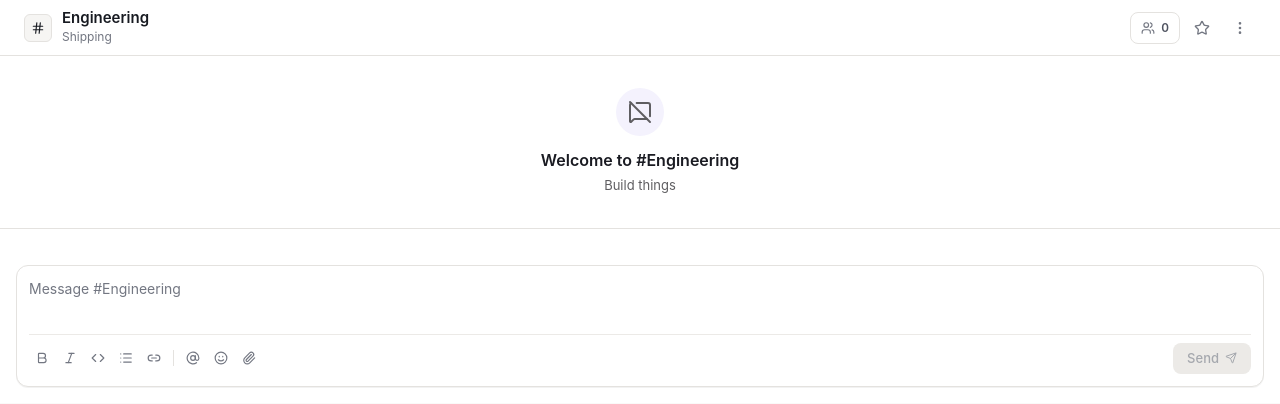
ChannelView › hides edit/delete for non-creator members
Click the button named "channel actions menu": coordinates (1240, 28) [1224,12,1256,44]
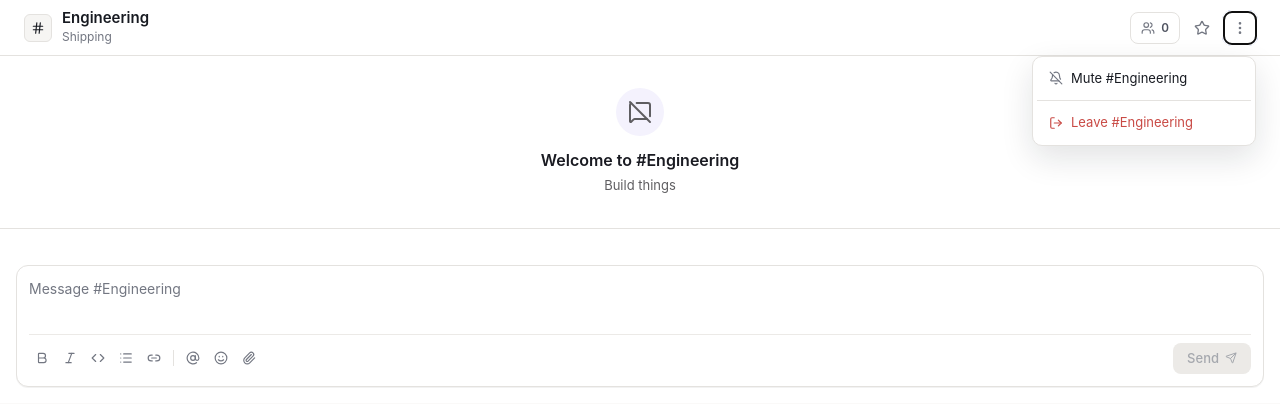
Expected: the menu item "Leave #Engineering" is shown, [1037,105,1251,140]
